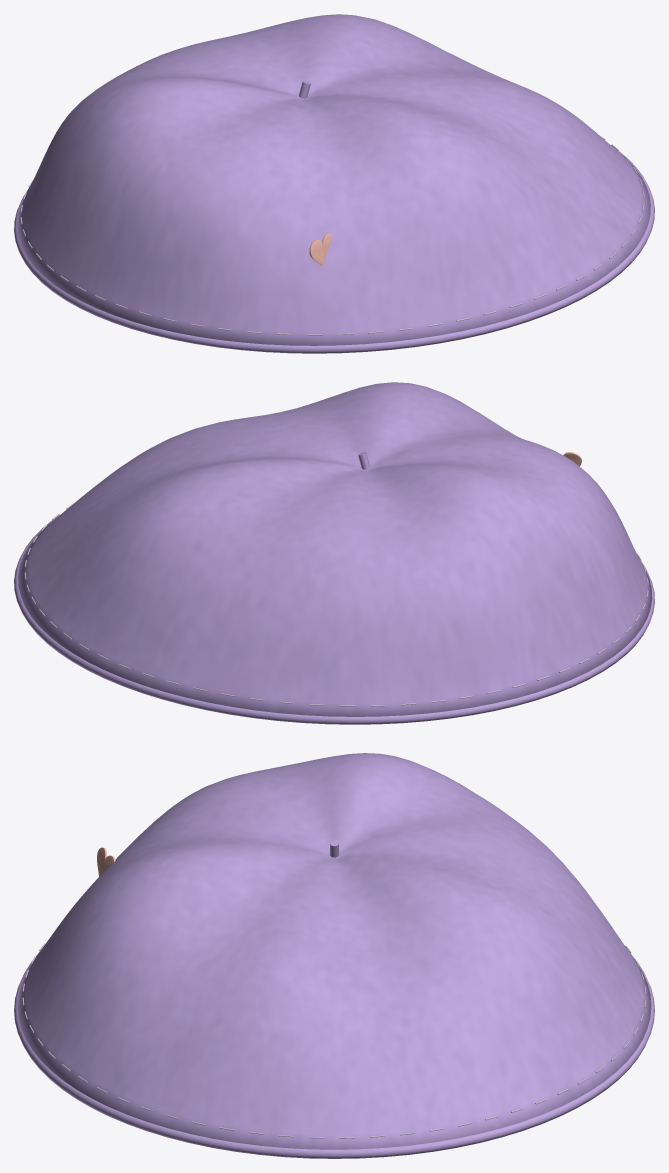
Rendered from restart_headfinish_beret_chic_pig.glb.
The picture shows the model from 3 angles, top to bottom: view 1: azimuth 30°, elevation 25°; view 2: azimuth 150°, elevation 25°; view 3: azimuth 270°, elevation 25°; orthographic projection. The views are drawn at different scales.
Visible parts, largest first — view 1: Boina pequeña · fieltro con forro; view 2: Boina pequeña · fieltro con forro; view 3: Boina pequeña · fieltro con forro.
Boxes of the visible parts, box(x1,y1,x2,y2) form: Boina pequeña · fieltro con forro: box(14, 14, 654, 353); Boina pequeña · fieltro con forro: box(14, 382, 654, 724); Boina pequeña · fieltro con forro: box(14, 753, 654, 1158).
Bounding box in the file's own units: 0.5716 × 0.16 × 0.5309.
3 materials, 2 textured.
